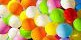Balloon: (57, 23, 73, 37), (7, 1, 23, 15), (51, 8, 64, 23), (34, 13, 49, 26), (31, 27, 46, 40), (64, 8, 77, 21), (25, 6, 40, 17), (8, 16, 20, 29), (8, 28, 20, 39), (60, 1, 76, 8)
